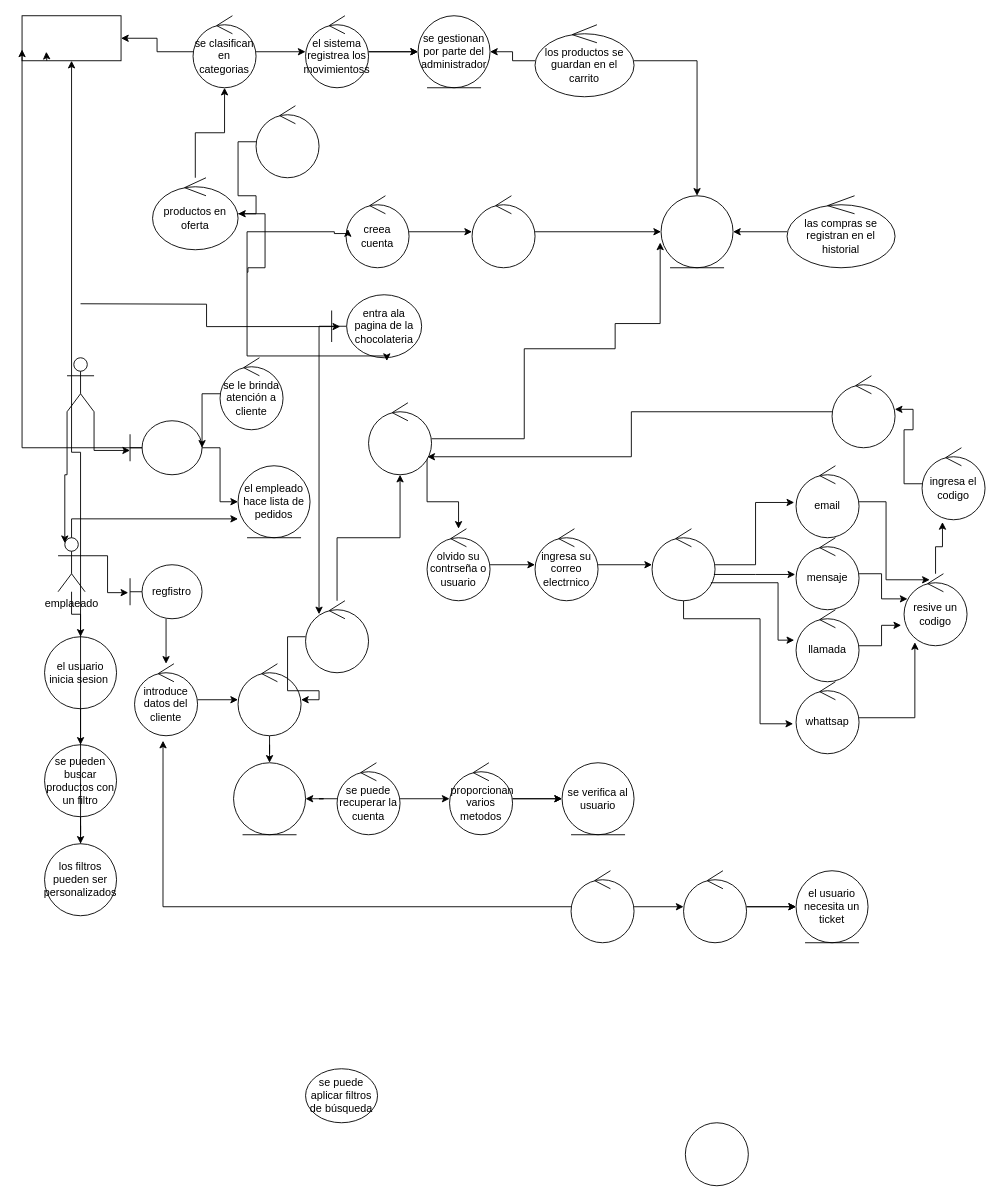
Image size: 1001x1202. Some labels were removed from this diagram. Here are the shapes that lost their labels. From the top down, the centre of each, then its label:
pixel 71 38: Producto
pixel 287 141: acceso a los detalles del producto
pixel 503 231: indroduce los datos que pide
pixel 696 231: entra asu cuenta
pixel 80 384: cliente
pixel 863 411: cambie su contraseña o usuario
pixel 165 447: hace pedidos
pixel 400 438: ingresa su cuenta y contraseña
pixel 683 564: elige el metodo de recuperacion
pixel 337 636: ya tiene su cuenta
pixel 269 699: crear cuenta de usuario
pixel 269 798: cuenta del ususario
pixel 602 906: se solicita el fedback
pixel 715 906: la empresa le asigna unoi
